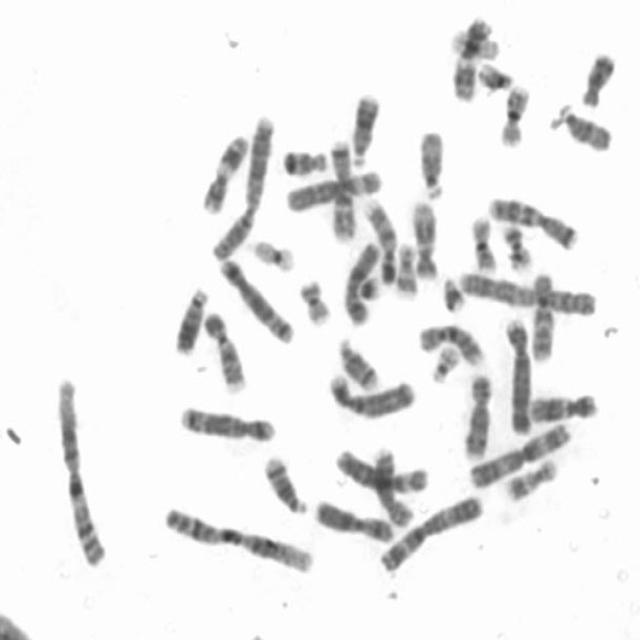A1: (53, 374, 112, 569), (162, 506, 316, 576)
A2: (210, 112, 276, 266), (459, 268, 598, 318)
A3: (377, 492, 486, 580), (466, 422, 571, 492)
B4: (327, 371, 417, 421), (503, 318, 534, 437)
B5: (218, 258, 295, 346), (176, 403, 279, 446)
C10: (416, 323, 482, 367), (530, 272, 556, 364)
C11: (201, 133, 248, 214), (452, 16, 494, 102)
C12: (412, 198, 439, 284), (529, 393, 601, 425)
C6: (284, 170, 383, 215), (335, 446, 430, 492)
C7: (487, 196, 581, 254), (325, 136, 355, 243)
C8: (371, 448, 416, 530), (462, 373, 494, 463)
C9: (200, 309, 248, 395), (357, 195, 399, 286)
D13: (172, 286, 210, 356), (351, 89, 382, 168)
D14: (262, 453, 310, 517), (338, 334, 382, 392)
D15: (556, 106, 613, 154), (414, 126, 449, 202)
E16: (498, 84, 531, 151), (467, 215, 500, 275)
E17: (503, 458, 561, 503), (396, 241, 419, 302)
E18: (579, 52, 618, 107), (283, 148, 328, 178)
F19: (447, 28, 501, 62), (250, 238, 296, 273)
F20: (296, 278, 332, 327), (502, 225, 533, 269)
G21: (442, 275, 469, 315), (353, 274, 383, 302)
G22: (477, 57, 514, 94), (430, 344, 459, 385)
X: (315, 495, 394, 545), (342, 240, 382, 328)
